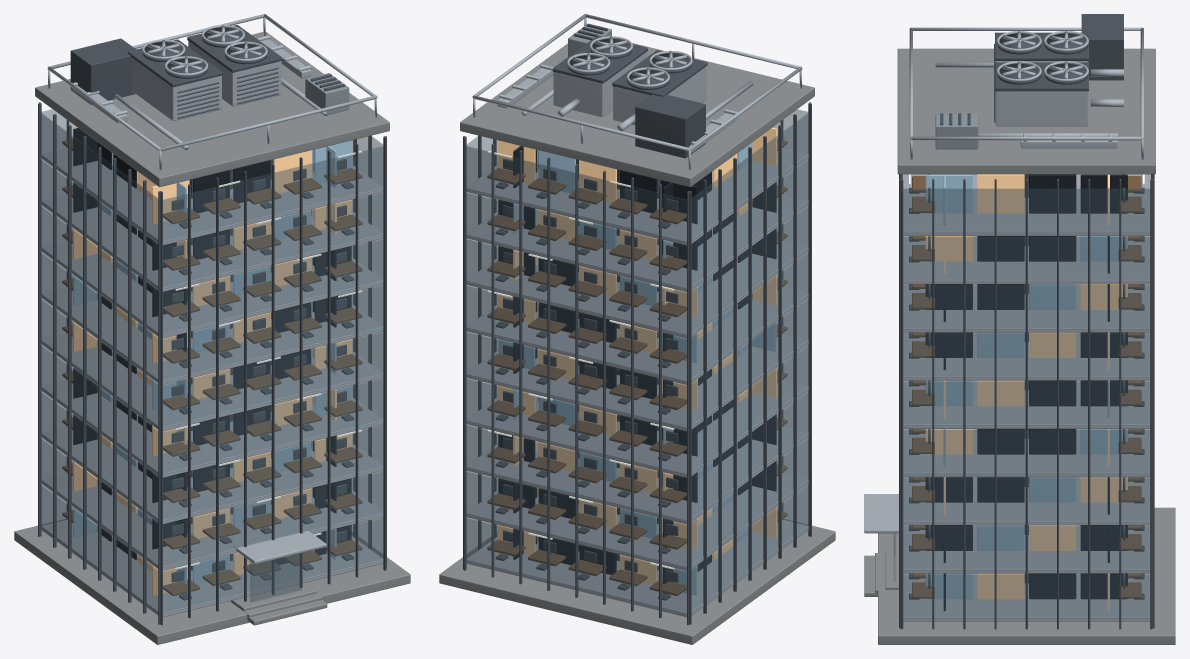
File: tower.glb
3 renders of one model, left to right at view 1: azimuth 30°, elevation 25°; view 2: azimuth 150°, elevation 25°; view 3: azimuth 270°, elevation 25°, orthographic. The views are drawn at different scales.
Parts seen in each view (by area): view 1: body_glass.037, body_steel.134, body_dark.125, body_concrete.042, body_wood.017, body_window_dark.010, body_window.017, body_window_cool.010, body_steel.135, body_dark.126, body_ceramic.019, body_warm.087; view 2: body_glass.037, body_steel.134, body_dark.125, body_concrete.042, body_wood.017, body_window_dark.010, body_window.017, body_window_cool.010, body_steel.135, body_dark.126, body_warm.087; view 3: body_glass.037, body_steel.134, body_concrete.042, body_window_dark.010, body_dark.125, body_window.017, body_window_cool.010, body_wood.017, body_steel.135, body_dark.126, body_ceramic.019.
Part boxes in pixels (left/top/right/bottom): body_glass.037: left=40, top=109, right=383, bottom=614; body_steel.134: left=41, top=36, right=383, bottom=617; body_dark.125: left=38, top=25, right=386, bottom=624; body_concrete.042: left=14, top=32, right=410, bottom=644; body_wood.017: left=62, top=139, right=362, bottom=595; body_window_dark.010: left=73, top=128, right=351, bottom=564; body_window.017: left=72, top=150, right=352, bottom=595; body_window_cool.010: left=73, top=140, right=351, bottom=594; body_steel.135: left=47, top=14, right=377, bottom=170; body_dark.126: left=142, top=27, right=266, bottom=78; body_ceramic.019: left=305, top=73, right=349, bottom=114; body_warm.087: left=175, top=151, right=361, bottom=569; body_glass.037: left=466, top=109, right=809, bottom=614; body_steel.134: left=466, top=52, right=808, bottom=617; body_dark.125: left=463, top=23, right=811, bottom=624; body_concrete.042: left=439, top=43, right=835, bottom=644; body_wood.017: left=487, top=139, right=787, bottom=595; body_window_dark.010: left=498, top=146, right=776, bottom=594; body_window.017: left=497, top=127, right=777, bottom=584; body_window_cool.010: left=498, top=142, right=776, bottom=595; body_steel.135: left=472, top=14, right=802, bottom=170; body_dark.126: left=567, top=39, right=691, bottom=89; body_warm.087: left=488, top=151, right=674, bottom=569; body_glass.037: left=893, top=175, right=1152, bottom=618; body_steel.134: left=864, top=61, right=1150, bottom=621; body_concrete.042: left=864, top=48, right=1175, bottom=644; body_window_dark.010: left=925, top=174, right=1127, bottom=610; body_dark.125: left=899, top=14, right=1154, bottom=629; body_window.017: left=925, top=174, right=1127, bottom=611; body_window_cool.010: left=925, top=174, right=1127, bottom=599; body_wood.017: left=912, top=176, right=1141, bottom=598; body_steel.135: left=909, top=27, right=1143, bottom=159; body_dark.126: left=997, top=33, right=1088, bottom=84; body_ceramic.019: left=935, top=114, right=978, bottom=149.
Bounding box in the file's own units: 2 × 3.83 × 2.05.
